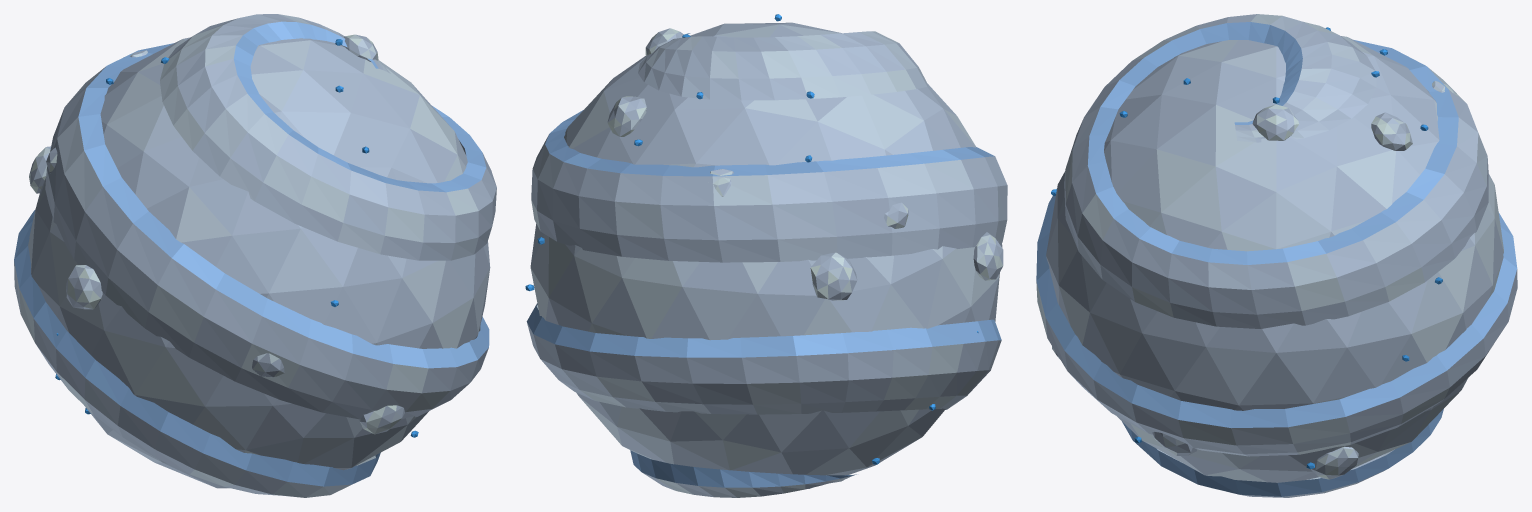
The model's file is ConceptSnowball.fbx.
3 renders of one model, left to right at view 1: azimuth 30°, elevation 25°; view 2: azimuth 150°, elevation 25°; view 3: azimuth 270°, elevation 25°, orthographic. The views are drawn at different scales.
Visible parts, largest first — view 1: ConceptSnowball; view 2: ConceptSnowball; view 3: ConceptSnowball.
Boxes of the visible parts, left/top/right/bottom form: ConceptSnowball: left=14, top=14, right=496, bottom=497; ConceptSnowball: left=525, top=14, right=1007, bottom=497; ConceptSnowball: left=1036, top=14, right=1517, bottom=497.
Size of the model in its own units: 0.9875 by 0.985 by 1.01.
